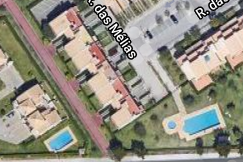pool: (182, 113, 219, 130), (48, 136, 72, 149)
